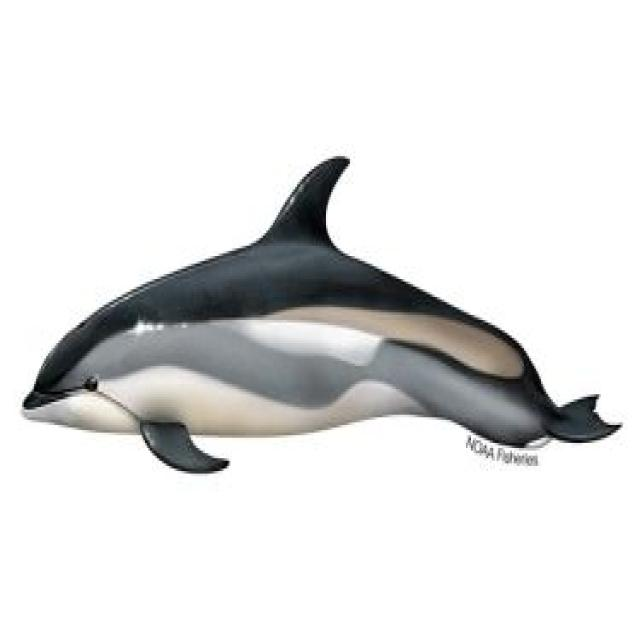penguin: (23, 156, 620, 471)
